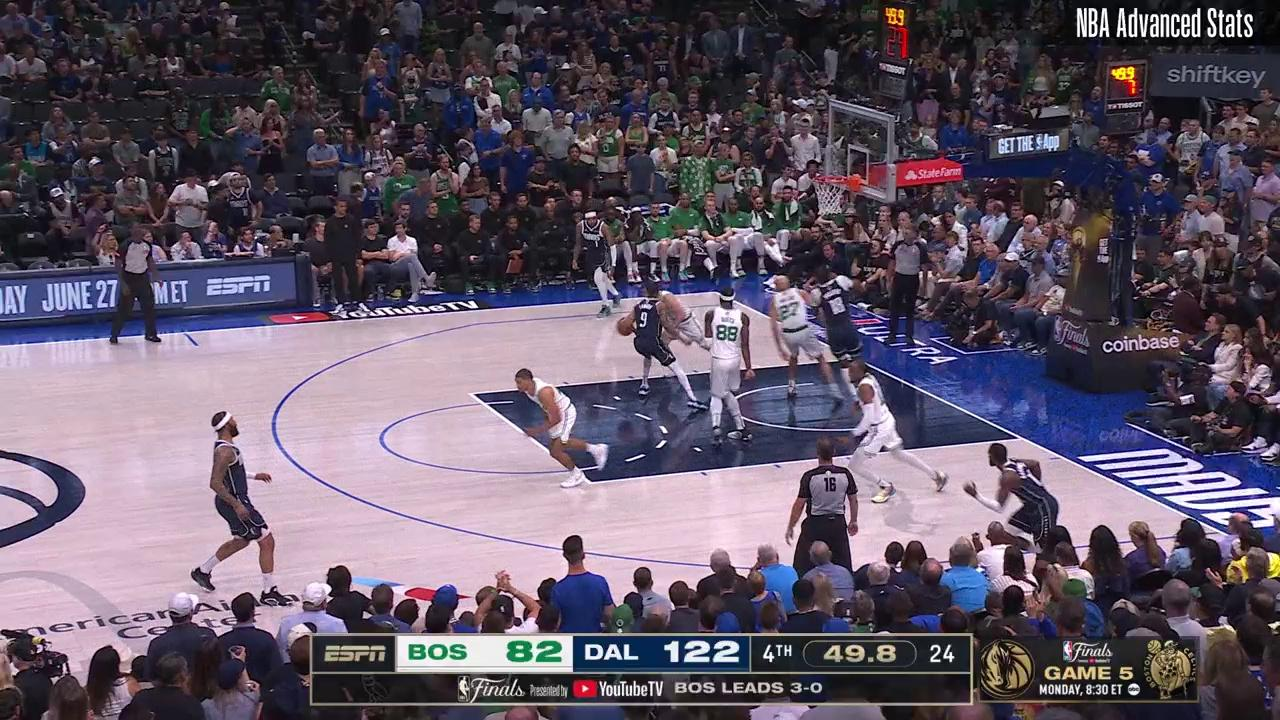3_dx: (1212, 525, 1227, 540)
3_sx: (733, 299, 743, 309)
b_sx: (710, 287, 721, 298)
free_adx: (583, 478, 596, 489)
free_asx: (463, 387, 477, 401)
free_bdx: (1013, 432, 1029, 445)
mid_sx: (192, 341, 202, 350)
referee: (783, 439, 857, 569), (109, 223, 164, 350), (882, 228, 929, 349)
team: (847, 355, 949, 504), (512, 364, 610, 493), (764, 274, 839, 400), (648, 271, 723, 384), (701, 283, 753, 445)
team1: (189, 414, 293, 609), (968, 438, 1062, 563), (810, 272, 882, 407), (627, 285, 704, 408), (571, 209, 624, 324)
timer: (813, 639, 913, 672)
